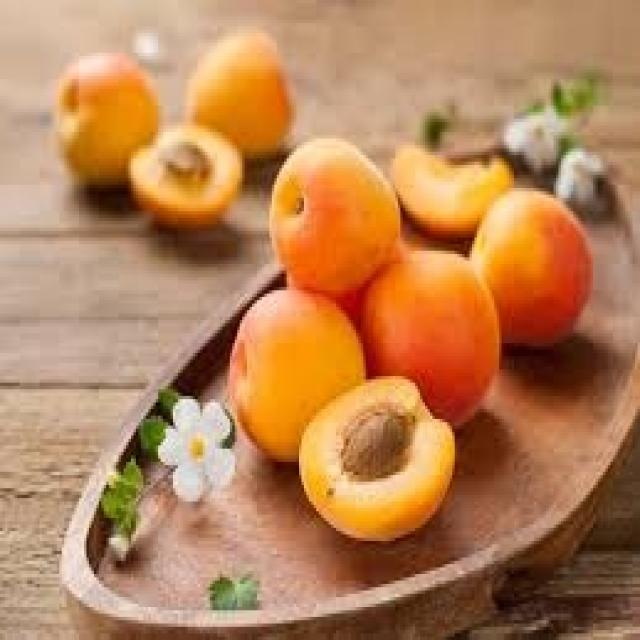cekirdek: (335, 398, 417, 482), (154, 135, 219, 189)
kayisi: (294, 365, 465, 544), (222, 284, 372, 473), (357, 250, 504, 428), (266, 128, 401, 297), (468, 180, 598, 354), (50, 42, 164, 200), (184, 28, 299, 168), (120, 118, 246, 231)
